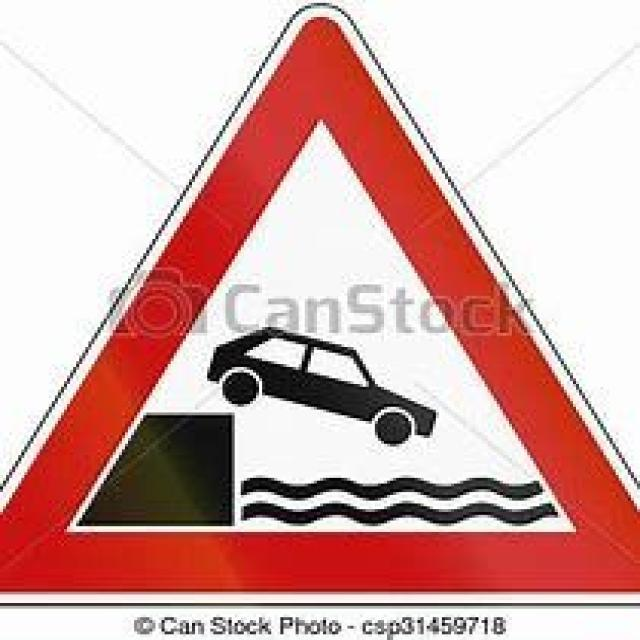quay side or river bank: (27, 12, 596, 586)
